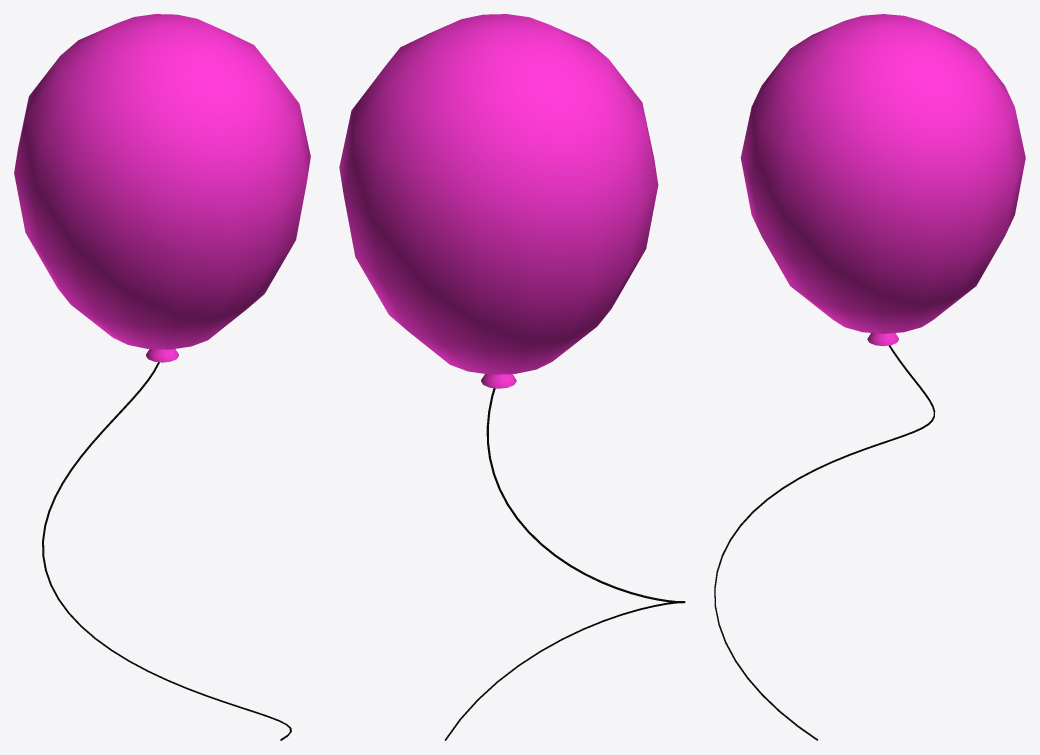
File: Balloon.fbx
3 renders of one model, left to right at view 1: azimuth 30°, elevation 25°; view 2: azimuth 150°, elevation 25°; view 3: azimuth 270°, elevation 25°, orthographic. The views are drawn at different scales.
Visible parts, largest first — view 1: Cone001, Helix001; view 2: Cone001, Helix001; view 3: Cone001, Helix001.
Boxes of the visible parts, box(x1,y1,x2,y2) form: Cone001: box(14, 14, 310, 362); Helix001: box(42, 362, 291, 740); Cone001: box(339, 14, 658, 388); Helix001: box(445, 388, 685, 740); Cone001: box(740, 14, 1025, 346); Helix001: box(714, 345, 935, 740).
Size of the model in its own units: 50.34 by 131 by 54.66.
